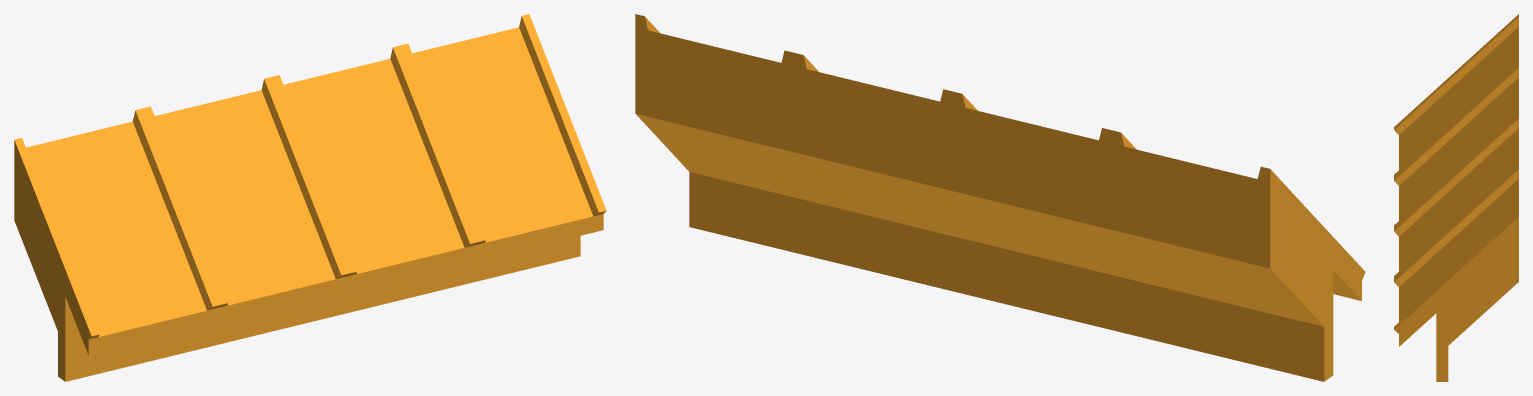
The model's file is SM_Roof_Metal_Regular_2m_Edge.fbx.
The picture shows the model from 3 angles, left to right: view 1: azimuth 30°, elevation 25°; view 2: azimuth 150°, elevation 25°; view 3: azimuth 270°, elevation 25°; orthographic projection. The views are drawn at different scales.
Visible parts, largest first — view 1: roof-metal-regular-2m-edge; view 2: roof-metal-regular-2m-edge; view 3: roof-metal-regular-2m-edge.
Boxes of the visible parts, x1,y1,x2,y2 form: roof-metal-regular-2m-edge: (14, 14, 606, 381); roof-metal-regular-2m-edge: (635, 14, 1365, 381); roof-metal-regular-2m-edge: (1394, 14, 1518, 381).
Bounding box in the file's own units: 2 × 0.7602 × 0.52.
